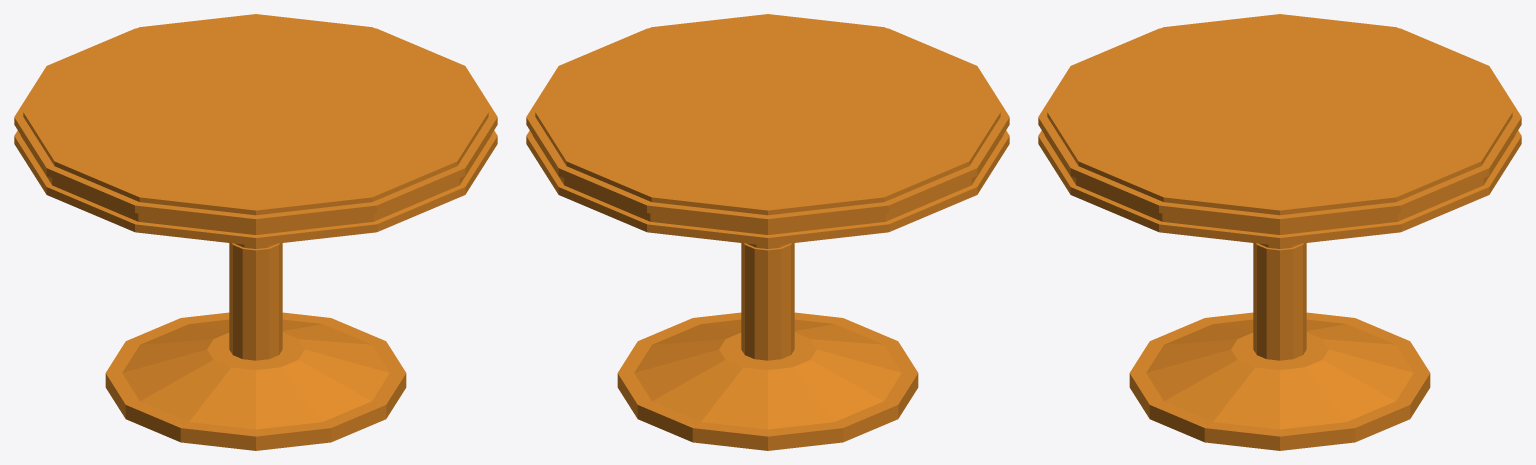
The model's file is Bord.fbx.
3 renders of one model, left to right at view 1: azimuth 30°, elevation 25°; view 2: azimuth 150°, elevation 25°; view 3: azimuth 270°, elevation 25°, orthographic.
Parts seen in each view (by area): view 1: Bord; view 2: Bord; view 3: Bord.
Part boxes in pixels (<box>): Bord: <box>14,14,497,450</box>; Bord: <box>526,14,1009,450</box>; Bord: <box>1038,14,1521,450</box>.
Size of the model in its own units: 68.37 by 42.93 by 68.37.
